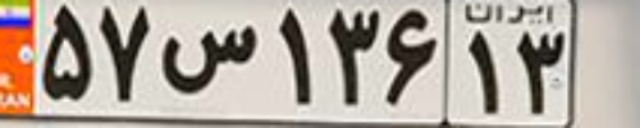1: (277, 8, 318, 103), (462, 27, 503, 115)
3: (324, 7, 381, 105), (514, 28, 567, 116)
5: (47, 2, 92, 100)
6: (385, 6, 438, 106)
7: (95, 3, 147, 103)
sin: (159, 22, 259, 97)
